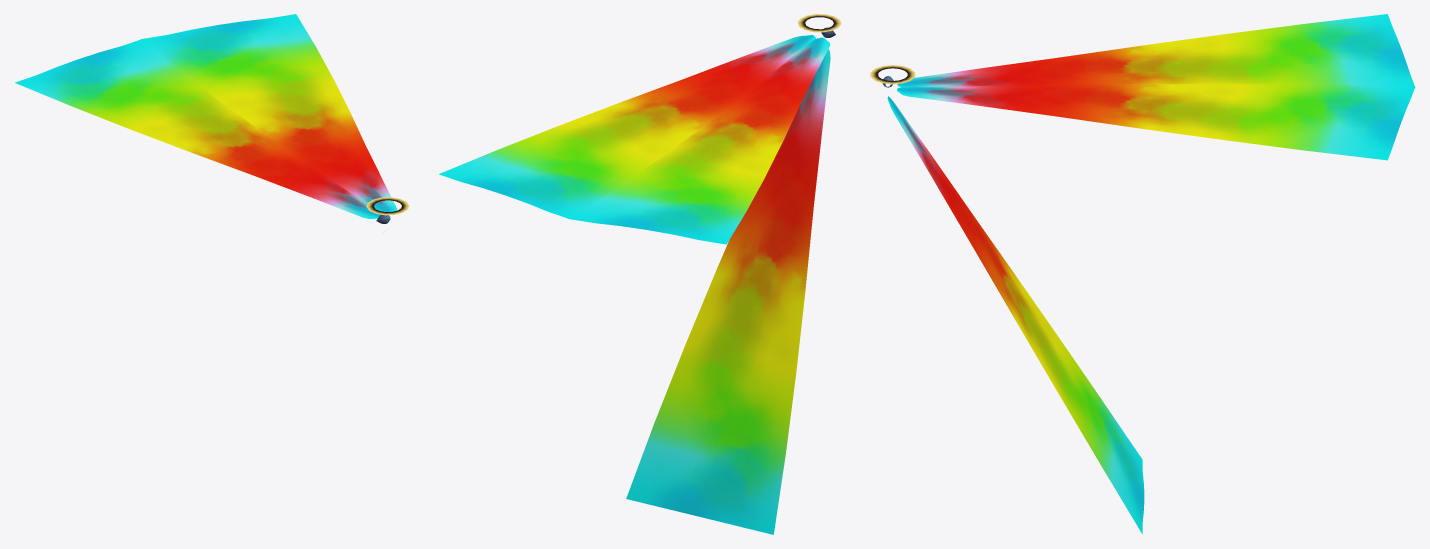
File: EFX.glb
The picture shows the model from 3 angles, left to right: view 1: azimuth 30°, elevation 25°; view 2: azimuth 150°, elevation 25°; view 3: azimuth 270°, elevation 25°; orthographic projection. The views are drawn at different scales.
Parts seen in each view (by area): view 1: Plane (×2); view 2: Plane (×3); view 3: Plane (×3).
Boxes of the visible parts, x1,y1,x2,y2 form: Plane (×2): [15, 14, 397, 218]; Plane (×3): [439, 35, 830, 534]; Plane (×3): [887, 14, 1415, 534].
Size of what is drawn, in the model's own units: 46.36 by 62.42 by 72.91.
4 materials, 4 textured.
